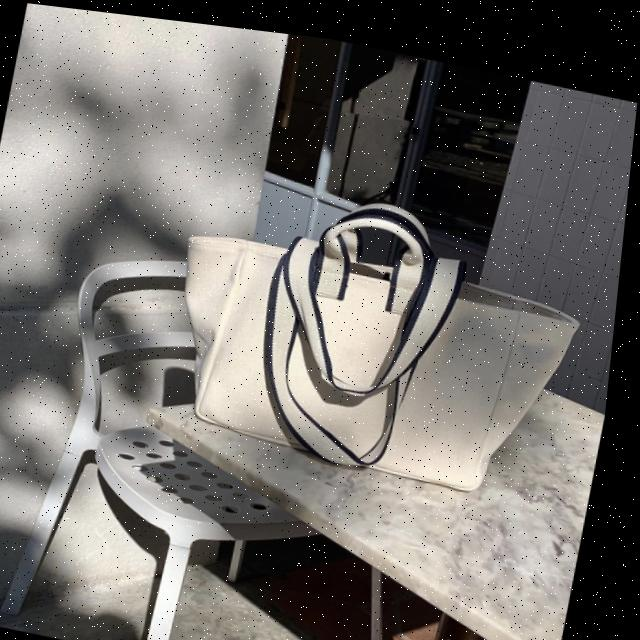ecobag: (152, 168, 612, 507)
